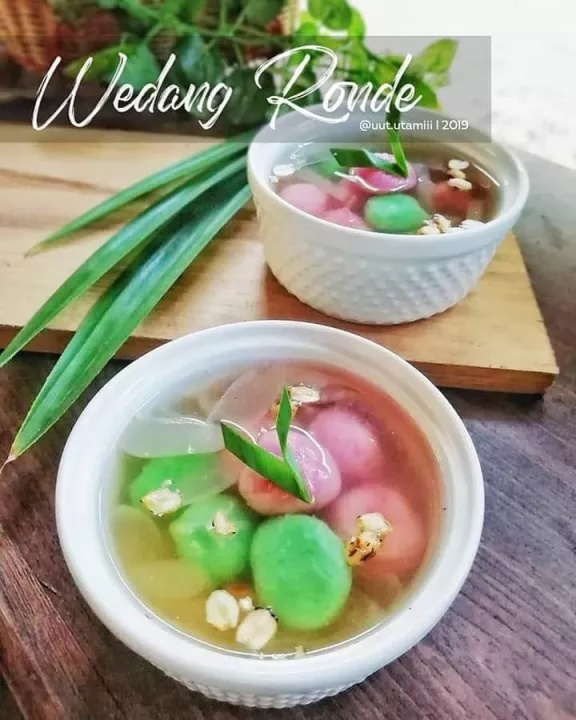ronde: (96, 351, 442, 656)
